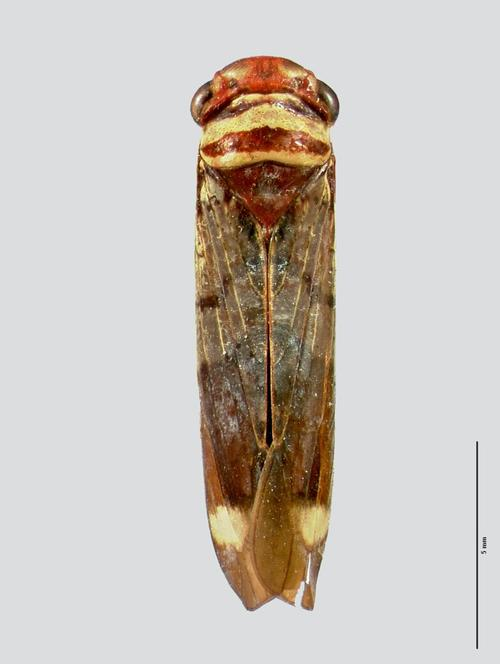Cicadellidae: (187, 55, 340, 610)
